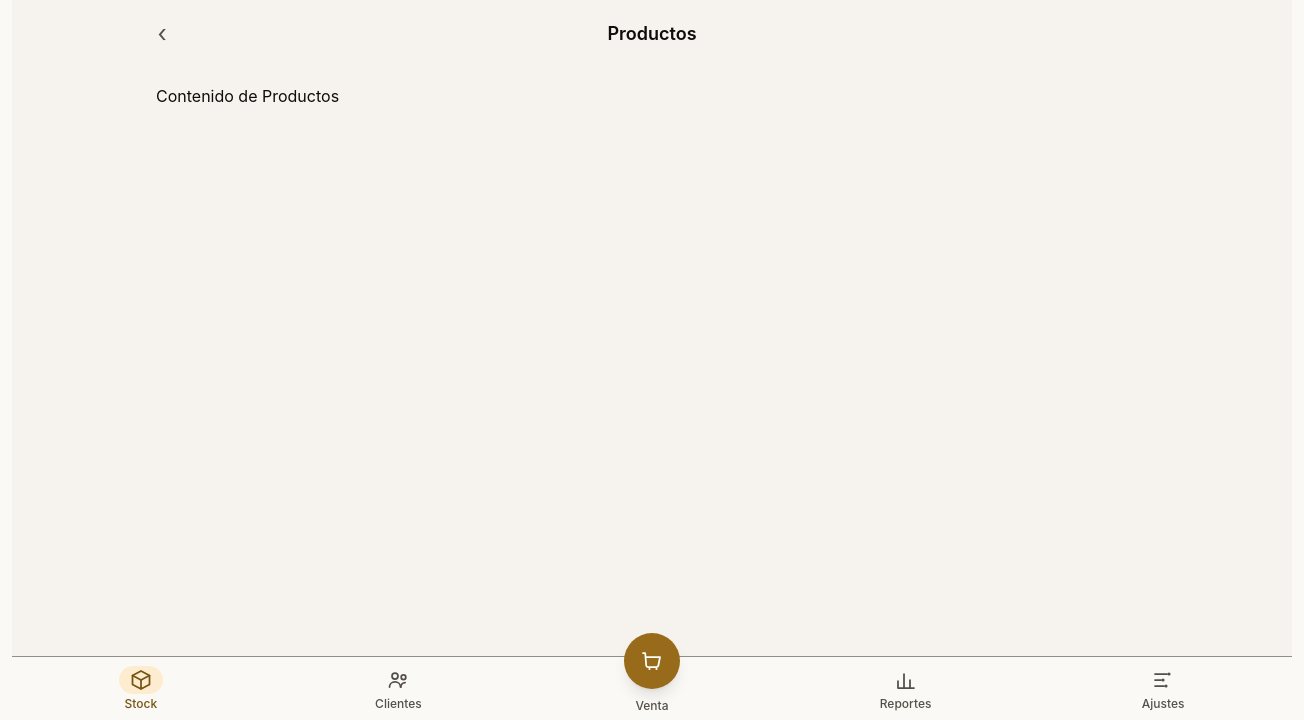
Scenario: Shell › una subvista con useHeader() reemplaza el título por tab y muestra el volver
Check: the heading "Productos" is shown, box [608,20,697,48]
What coordinates should you click on to do the following:
click the button named "Volver"
I would click on:
 (162, 34)
Its box is [140,12,184,56].
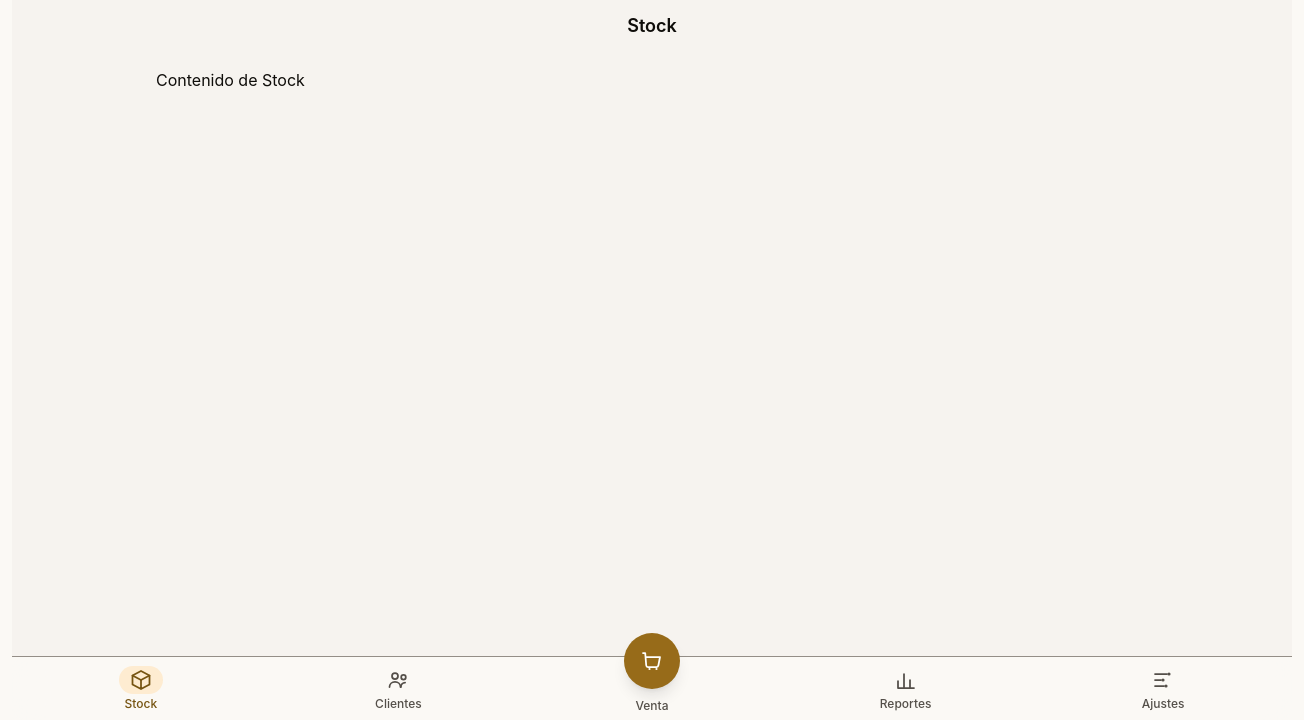
Check: the text "Contenido de Stock" is shown, box [156,70,305,90]
